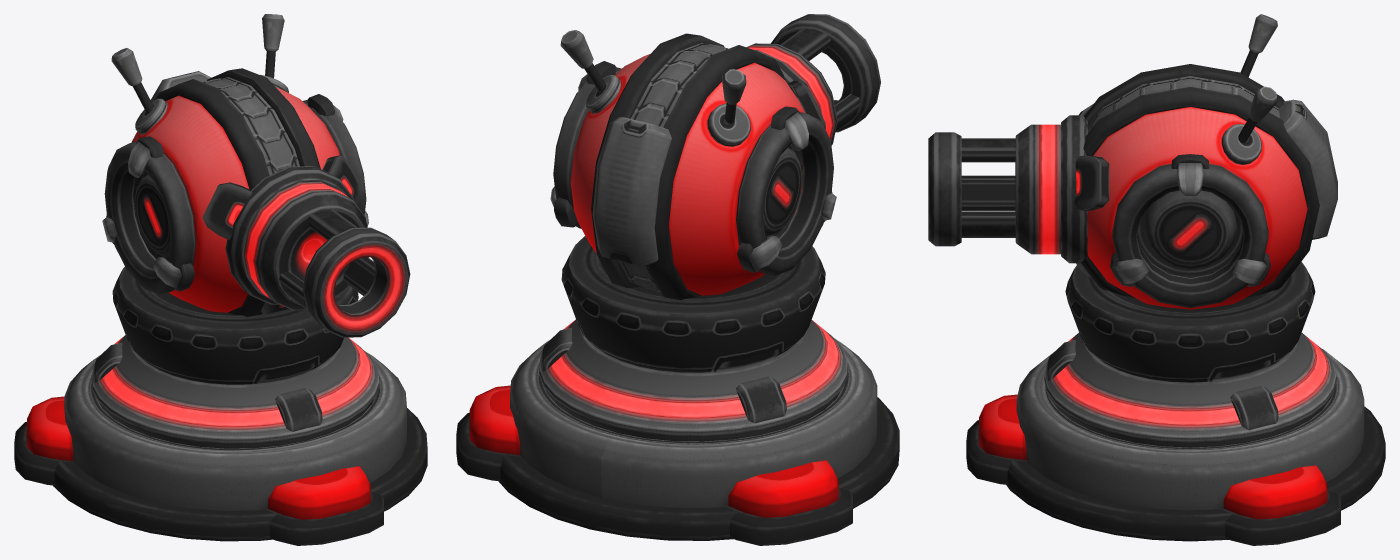
The model's file is Laser_Red_1.gltf.
3 views of the same model, side by side, from view 1: azimuth 30°, elevation 25°; view 2: azimuth 150°, elevation 25°; view 3: azimuth 270°, elevation 25° (orthographic). The views are drawn at different scales.
Parts seen in each view (by area): view 1: l2_base, l2_mid, l2_main, l2_barrel1, l2_side; view 2: l2_base, l2_main, l2_mid, l2_side, l2_barrel1; view 3: l2_base, l2_main, l2_mid, l2_barrel1, l2_side.
Part boxes in pixels (x1,y1,x2,y2): l2_base: [14, 352, 427, 545]; l2_mid: [91, 266, 379, 448]; l2_main: [111, 14, 339, 316]; l2_barrel1: [202, 155, 410, 337]; l2_side: [102, 94, 368, 294]; l2_base: [456, 338, 899, 545]; l2_main: [560, 30, 805, 300]; l2_mid: [539, 236, 848, 441]; l2_side: [550, 61, 836, 275]; l2_barrel1: [746, 14, 880, 145]; l2_base: [966, 349, 1385, 545]; l2_main: [1080, 14, 1337, 309]; l2_mid: [1044, 261, 1336, 447]; l2_barrel1: [928, 103, 1109, 277]; l2_side: [1110, 154, 1270, 307].
Size of the model in its own units: 0.7381 by 0.79 by 0.803.
1 material, 1 textured.
